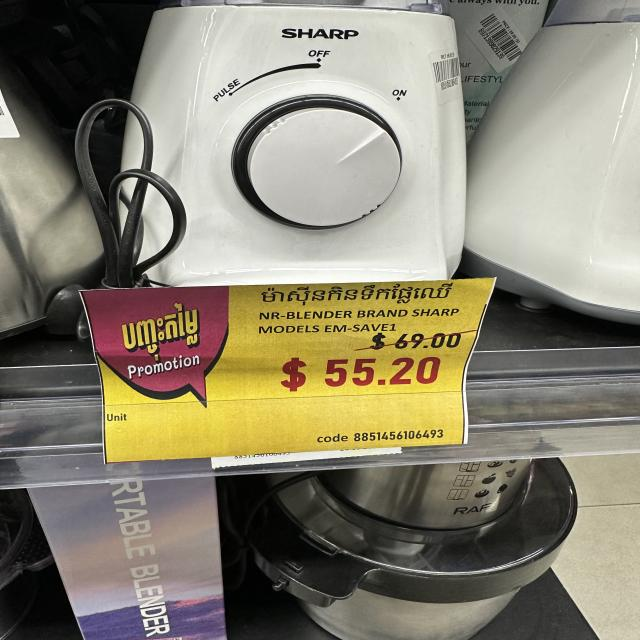73: (272, 348, 446, 393)
Yolov11_80vkh: (107, 296, 204, 368), (258, 280, 457, 307)
